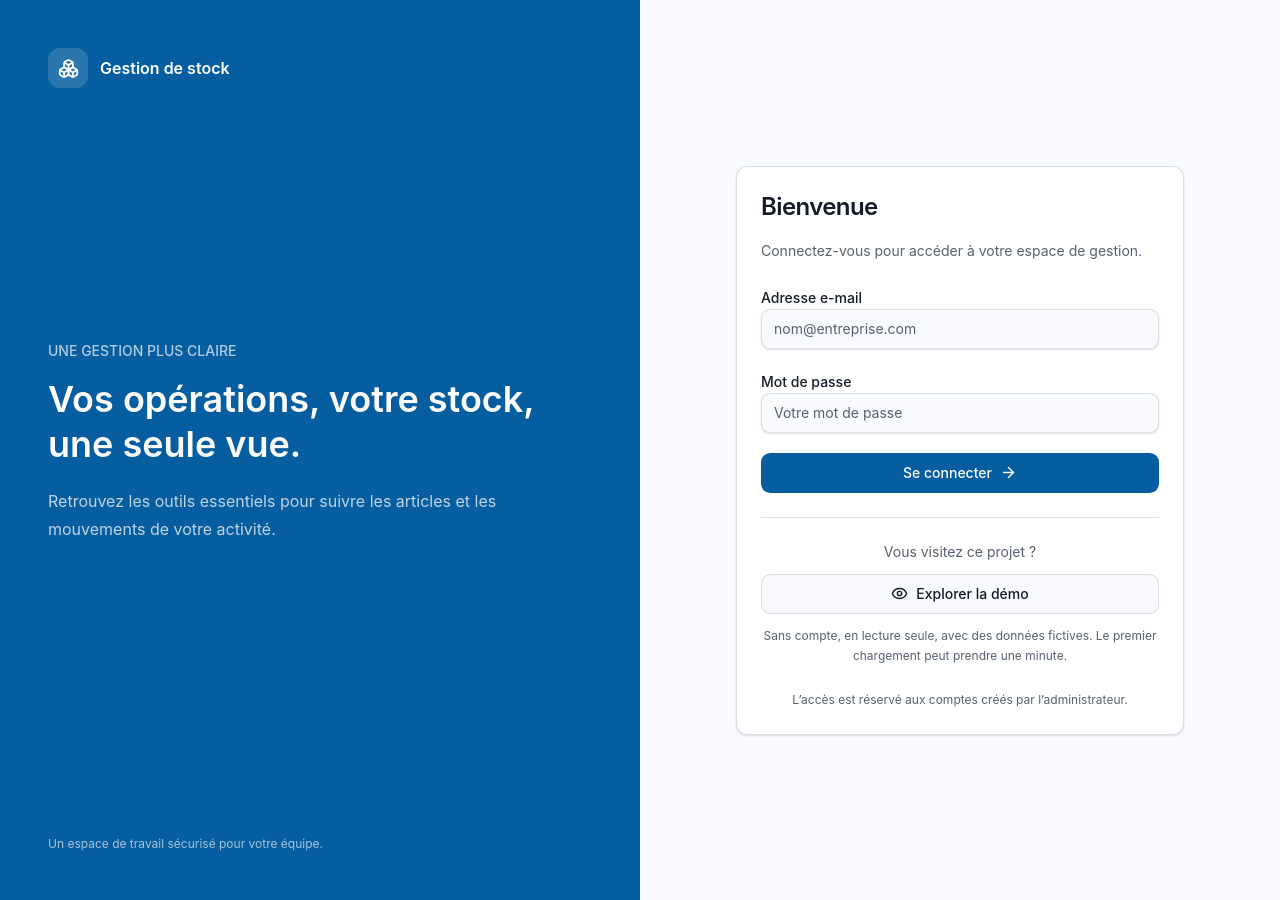
Test: connexion à la démonstration › affiche l'erreur si la connexion démo échoue
The image size is (1280, 900).
Click the button "Explorer la démo". click: (960, 594)
box: top-left (761, 574), bottom-right (1159, 614)
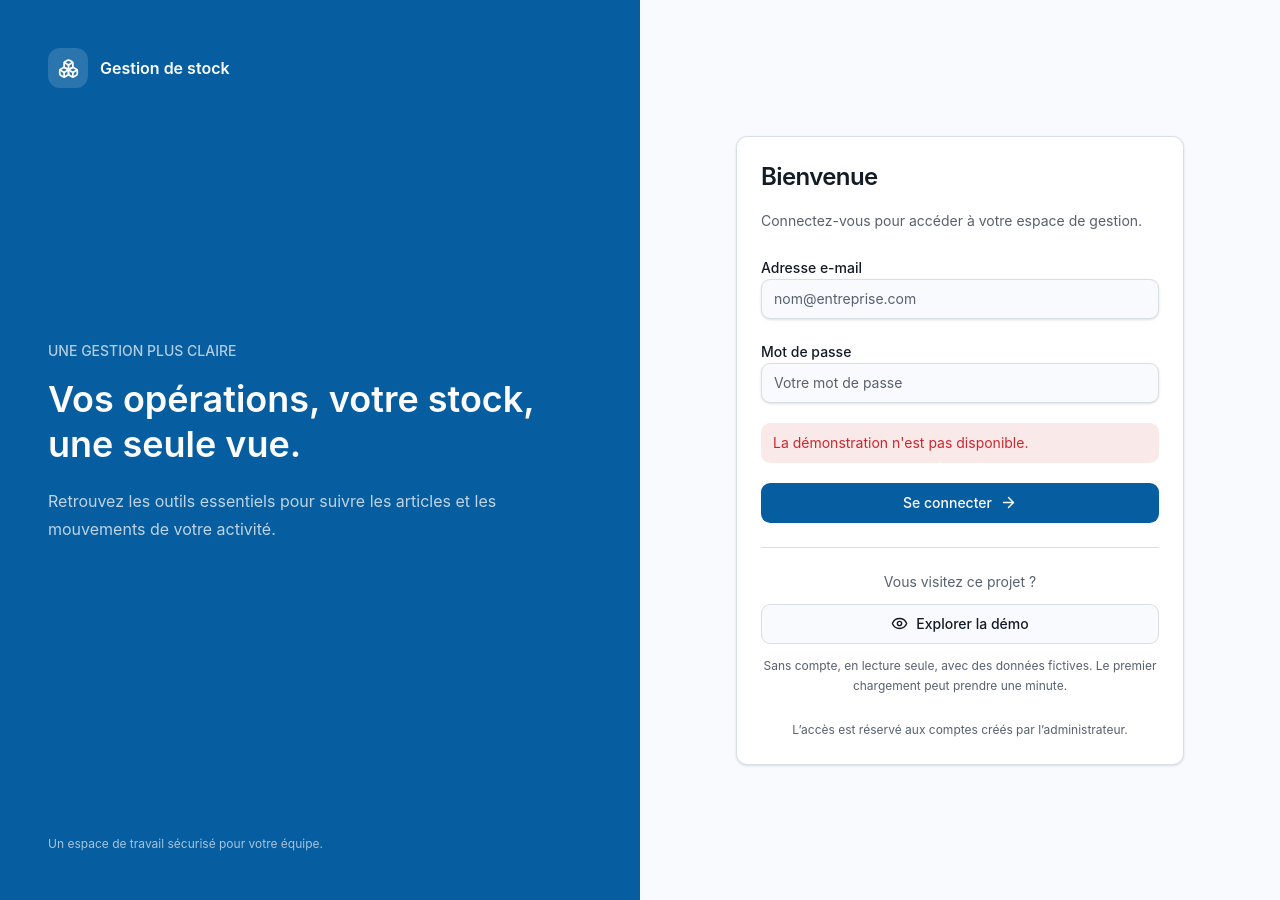
expect the message reads "La démonstration n'est pas disponible.": met, box top-left (773, 434), bottom-right (1028, 450)
